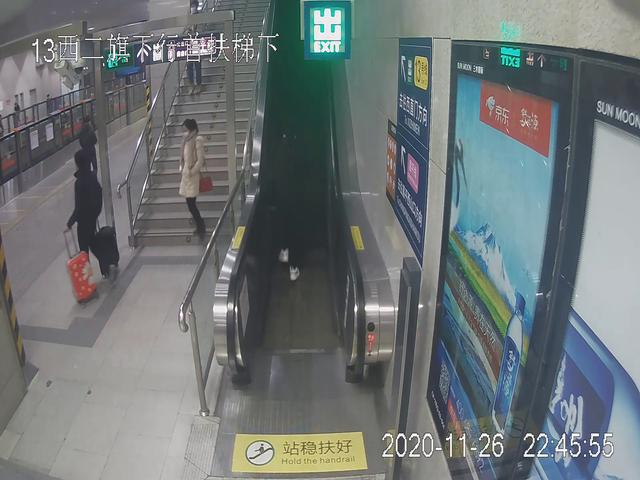person: (66, 152, 118, 275), (178, 117, 216, 240), (181, 1, 208, 95)
